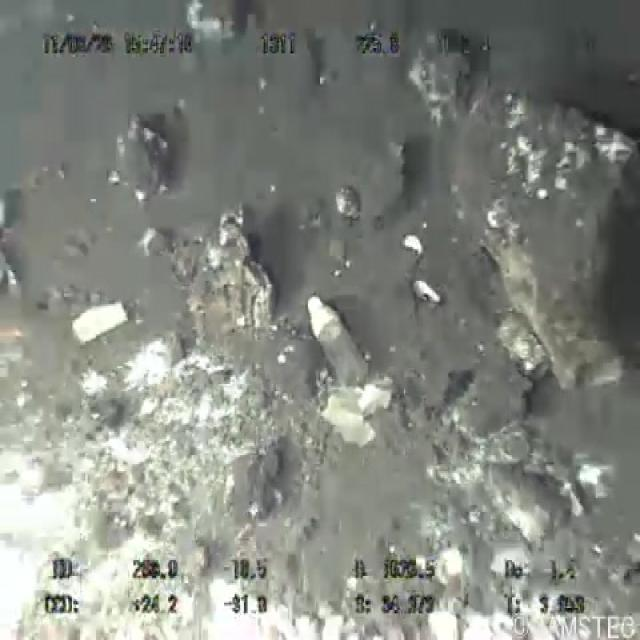plastic: (300, 283, 372, 402)
